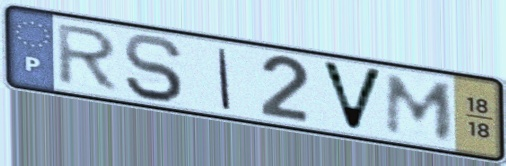2: (257, 53, 316, 127)
I: (215, 45, 234, 113)
M: (382, 71, 457, 144)
R: (54, 21, 123, 94)
S: (122, 32, 186, 105)
V: (317, 58, 387, 135)
